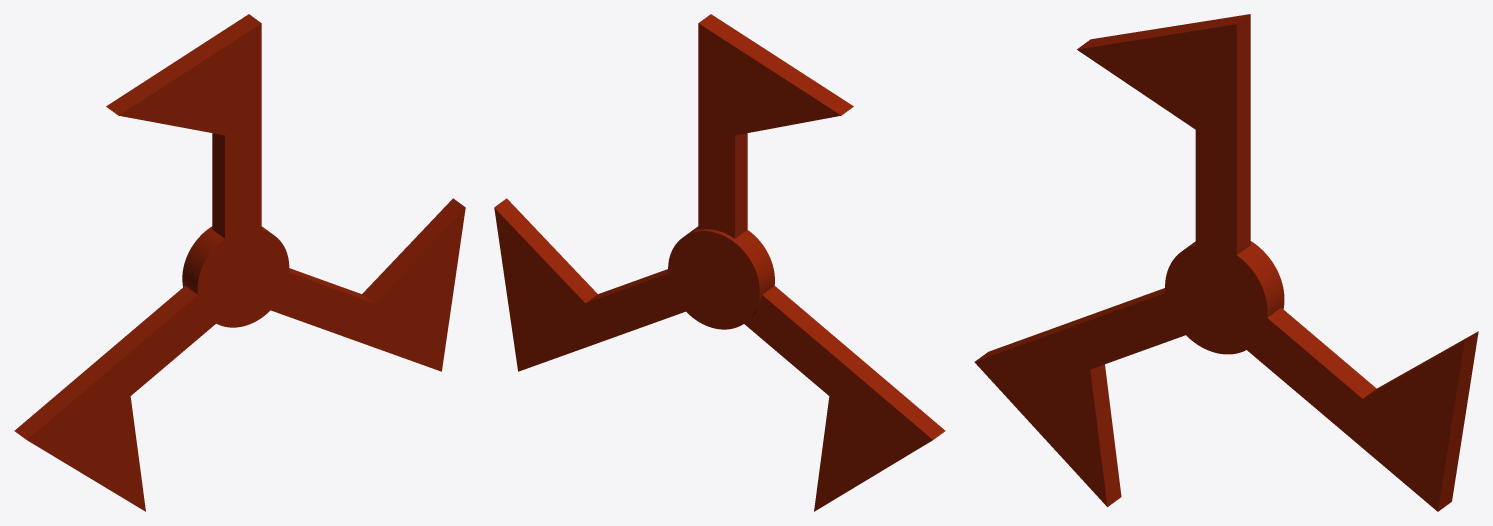
The model's file is Triangles.obj.
The picture shows the model from 3 angles, left to right: view 1: azimuth 30°, elevation 25°; view 2: azimuth 150°, elevation 25°; view 3: azimuth 330°, elevation 25°; orthographic projection. The views are drawn at different scales.
Visible parts, largest first — view 1: evis; view 2: evis; view 3: evis.
Part boxes in pixels (x1,y1,x2,y2): evis: (14, 14, 465, 511); evis: (494, 14, 945, 511); evis: (974, 14, 1478, 511).
Bounding box in the file's own units: 38.29 × 38.39 × 2.3.
